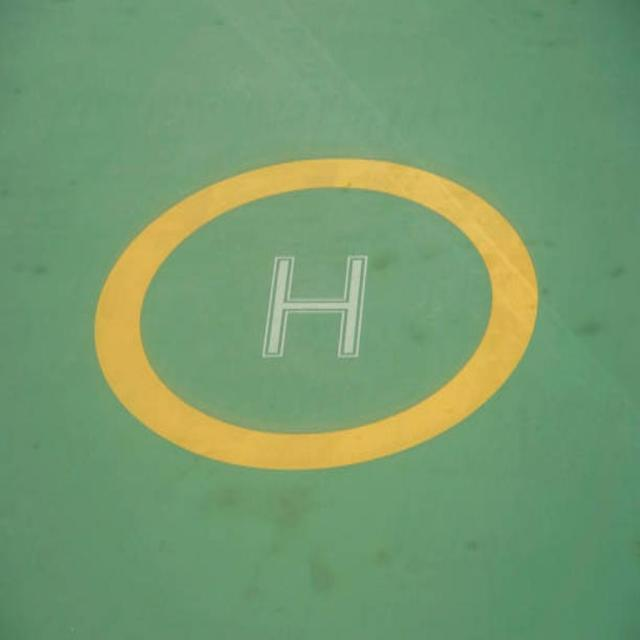helipad: (89, 152, 542, 478)
